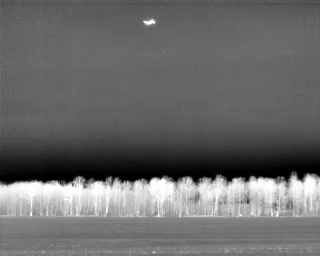DRONE: (140, 15, 160, 30)
